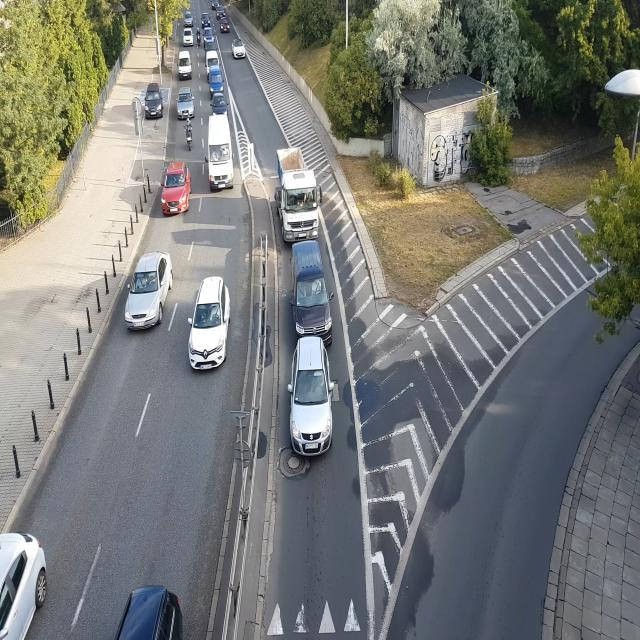car: (290, 335, 333, 463), (125, 249, 173, 340), (115, 580, 183, 640), (188, 276, 229, 371), (293, 246, 333, 336), (156, 155, 192, 218), (208, 114, 236, 192), (144, 90, 165, 118), (177, 92, 196, 119), (178, 52, 194, 80), (209, 94, 230, 115), (209, 66, 224, 94), (198, 10, 213, 28), (206, 50, 220, 69), (231, 44, 247, 60), (182, 27, 194, 46), (202, 36, 216, 50), (184, 12, 194, 25), (220, 22, 230, 33), (217, 7, 226, 19), (212, 0, 218, 9)
motorcycle: (194, 26, 202, 46)
truck: (275, 143, 321, 240)
